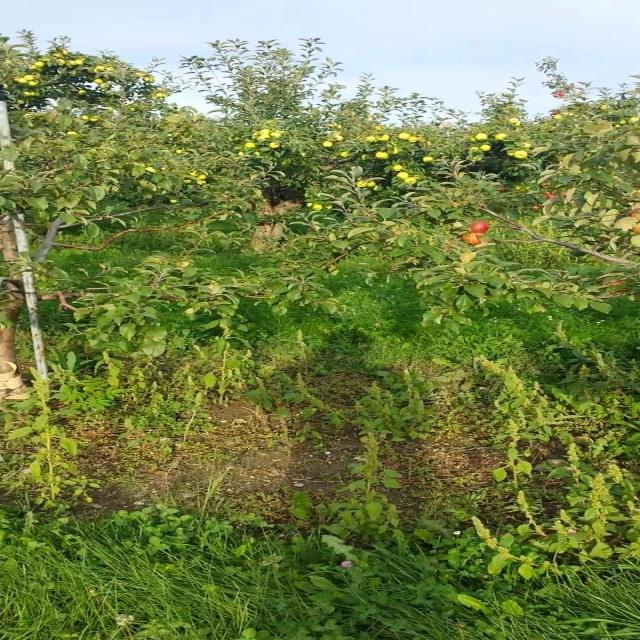apple: (461, 236, 484, 245), (476, 224, 491, 232), (611, 280, 626, 285)
